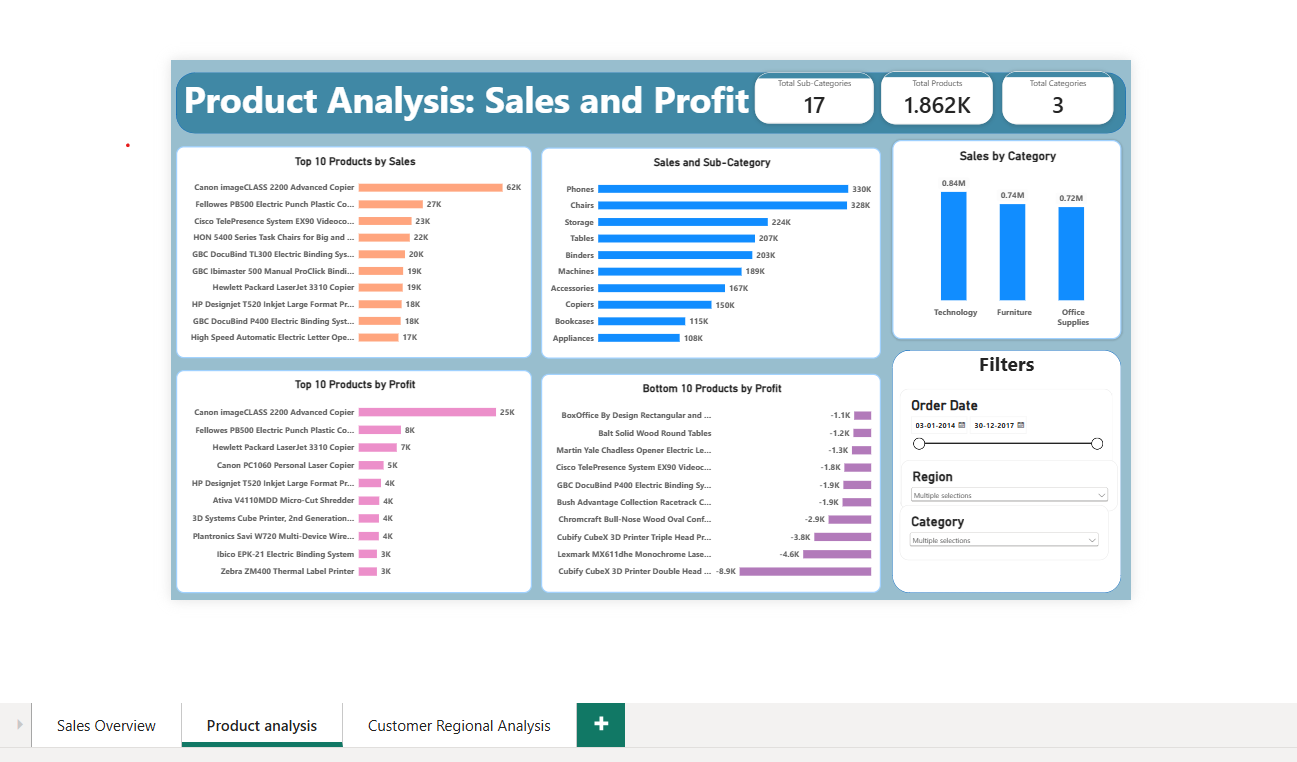

Layout of this report page (visuals, bound fields, positions):
{"tool":"powerbi","page":{"name":"Product analysis","canvas":[1920,1080],"ordinal":1},"visuals":[{"type":"shape","box":[1442,580,458,486],"z":0,"group":"g2"},{"type":"shape","box":[10,24,1900,122],"z":500},{"type":"textbox","box":[24.7,26.8,1243.2,102.9],"z":1000},{"type":"cardVisual","fields":{"Data":["Count(Sample - Superstore.Product ID)"]},"box":[1420,22,224,106],"z":2000},{"type":"cardVisual","fields":{"Data":["Count(Sample - Superstore.Category)"]},"box":[1662,22,222,106],"z":3000},{"type":"cardVisual","fields":{"Data":["Count(Sample - Superstore.Sub-Category)"]},"box":[1168,26,238,102],"z":4000},{"type":"clusteredColumnChart","title":"Sales by Category","fields":{"Category":["Sample - Superstore.Category"],"Y":["Sum(Sample - Superstore.Sales)"]},"box":[1442,160,458,398],"z":5000},{"type":"clusteredBarChart","title":"Top 10 Products by Sales","fields":{"Category":["Sample - Superstore.Product Name"],"Y":["Sum(Sample - Superstore.Sales)"]},"box":[10,172,712,424],"z":6000},{"type":"clusteredBarChart","title":"Top 10 Products by Profit","fields":{"Category":["Sample - Superstore.Product Name"],"Y":["Sum(Sample - Superstore.Profit)"]},"box":[10,620,712,446],"z":7000},{"type":"clusteredBarChart","title":"Bottom 10 Products by Profit","fields":{"Category":["Sample - Superstore.Product Name"],"Y":["Sum(Sample - Superstore.Profit)"]},"box":[740,628,680,438],"z":8000},{"type":"clusteredBarChart","title":"Sales and Sub-Category","fields":{"Category":["Sample - Superstore.Sub-Category"],"Y":["Sum(Sample - Superstore.Sales)"]},"box":[740,174,680,422],"z":9000},{"type":"slicer","fields":{"Values":["Sample - Superstore.Order Date"]},"box":[1456.8,658,425.3,241.1],"z":10000,"group":"g2"},{"type":"slicer","fields":{"Values":["Sample - Superstore.Region"]},"box":[1458.7,800,434,102.5],"z":11000,"group":"g2"},{"type":"slicer","fields":{"Values":["Sample - Superstore.Category"]},"box":[1456.8,890,417.4,110.1],"z":12000,"group":"g2"},{"type":"group","id":"g1","title":"Group 1","box":[1442,580,458,486],"z":12001},{"type":"group","id":"g2","title":"Group 2","box":[1442,580,458,486],"z":12002,"group":"g1"}]}

Visuals, with their boxes on the page's 1920x1080 design canvas (x1, y1, x2, y2). These are canvas units, not pixel positions in the 1297x762 screenshot, which may show the page scaled, cropped or inside an application window:
shape: (left=1442, top=580, right=1900, bottom=1066)
shape: (left=10, top=24, right=1910, bottom=146)
textbox: (left=25, top=27, right=1268, bottom=130)
cardVisual - Count(Sample - Superstore.Product ID): (left=1420, top=22, right=1644, bottom=128)
cardVisual - Count(Sample - Superstore.Category): (left=1662, top=22, right=1884, bottom=128)
cardVisual - Count(Sample - Superstore.Sub-Category): (left=1168, top=26, right=1406, bottom=128)
"Sales by Category" clusteredColumnChart: (left=1442, top=160, right=1900, bottom=558)
"Top 10 Products by Sales" clusteredBarChart: (left=10, top=172, right=722, bottom=596)
"Top 10 Products by Profit" clusteredBarChart: (left=10, top=620, right=722, bottom=1066)
"Bottom 10 Products by Profit" clusteredBarChart: (left=740, top=628, right=1420, bottom=1066)
"Sales and Sub-Category" clusteredBarChart: (left=740, top=174, right=1420, bottom=596)
slicer - Sample - Superstore.Order Date: (left=1457, top=658, right=1882, bottom=899)
slicer - Sample - Superstore.Region: (left=1459, top=800, right=1893, bottom=902)
slicer - Sample - Superstore.Category: (left=1457, top=890, right=1874, bottom=1000)
"Group 1" group: (left=1442, top=580, right=1900, bottom=1066)
"Group 2" group: (left=1442, top=580, right=1900, bottom=1066)
